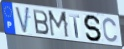B: (32, 9, 50, 37)
C: (102, 17, 119, 44)
M: (47, 9, 70, 39)
S: (83, 15, 103, 43)
T: (68, 13, 81, 39)
V: (15, 5, 31, 35)
